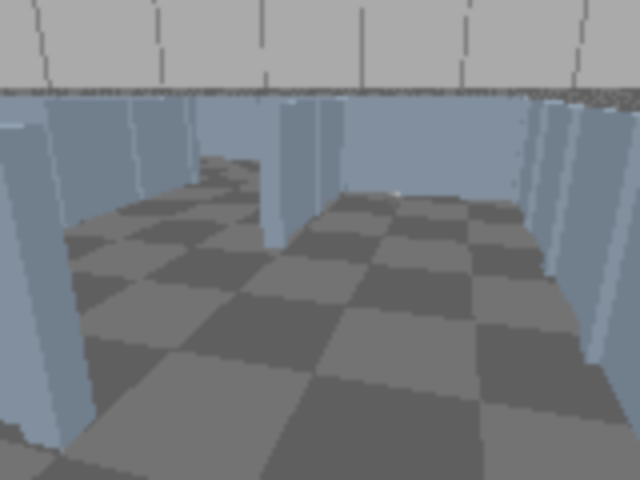puck: (383, 189, 405, 209)
